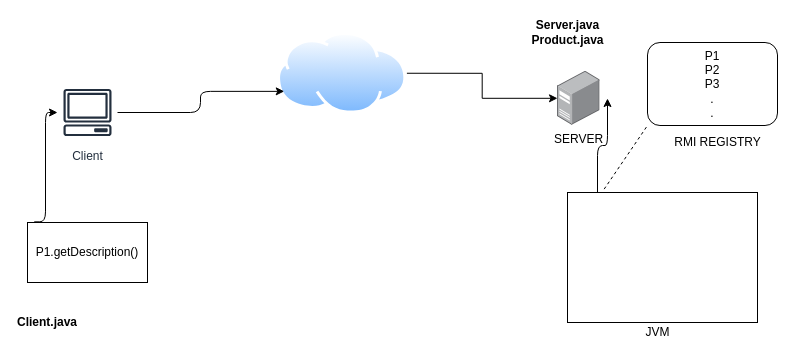
The diagram is 795 pixels wide and 359 high, and some of its shapes have lost their labels. The shapes that lost their labels are listed below. From the top down, each one's centre as x and y in pixels, then its label:
point 341,73: NETWORK
point 662,257: Product P1 = new Product()
